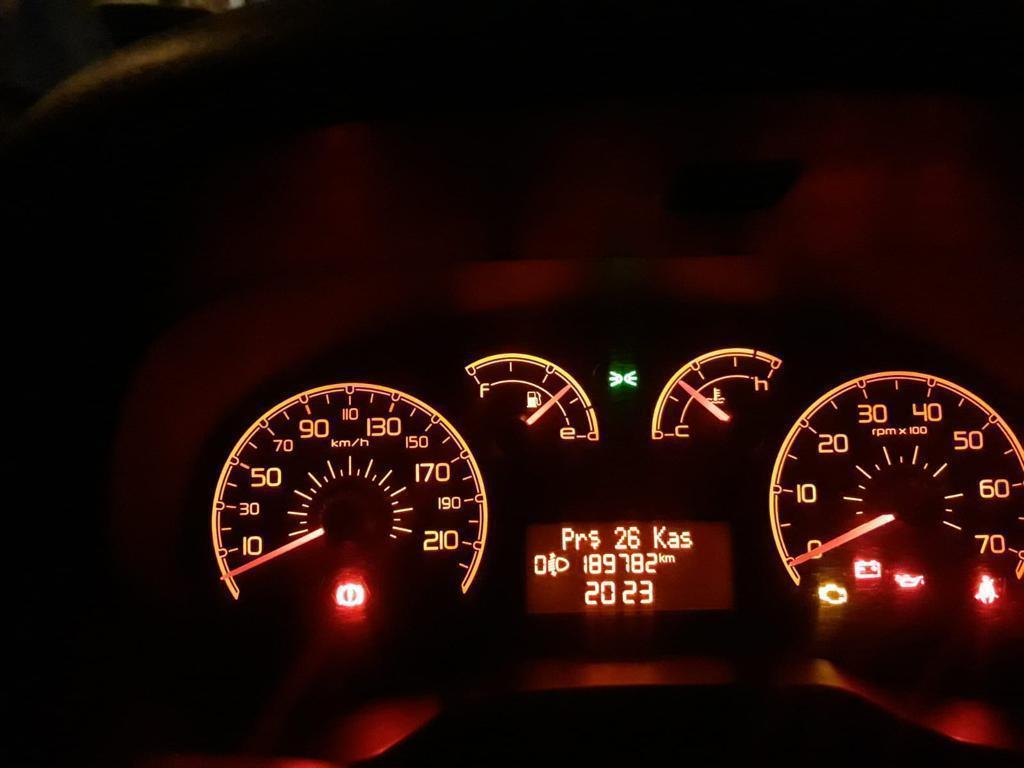0: (600, 580, 615, 604), (533, 554, 546, 574)
1: (582, 554, 587, 574)
2: (621, 580, 637, 604), (584, 580, 599, 605), (613, 526, 627, 549), (644, 552, 657, 573)
3: (638, 580, 653, 603)
6: (627, 526, 640, 549)
7: (617, 552, 629, 573)
8: (630, 553, 644, 573), (588, 553, 601, 574)
9: (602, 553, 616, 574)
X: (652, 525, 666, 549), (561, 527, 574, 551), (588, 530, 601, 550), (666, 531, 680, 548), (679, 531, 693, 548), (574, 532, 587, 550), (665, 554, 675, 563), (658, 552, 665, 563)
odometer: (523, 517, 738, 614)
